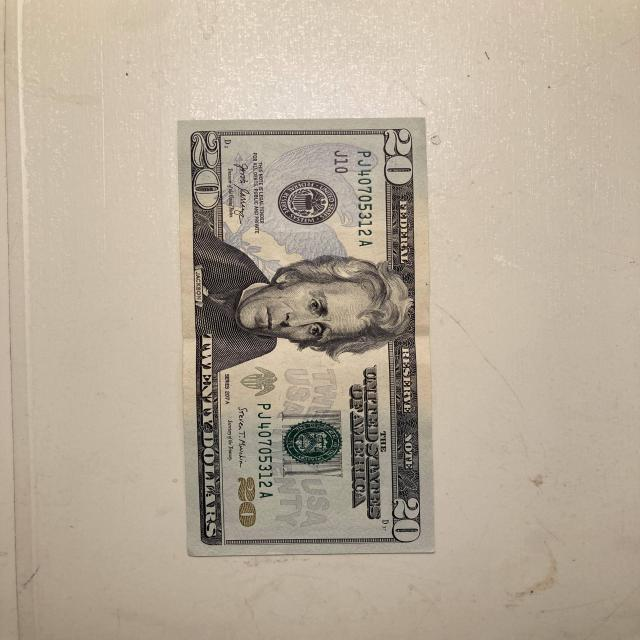twenty: (176, 116, 440, 558)
